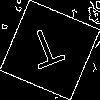T: (25, 25, 70, 79)
